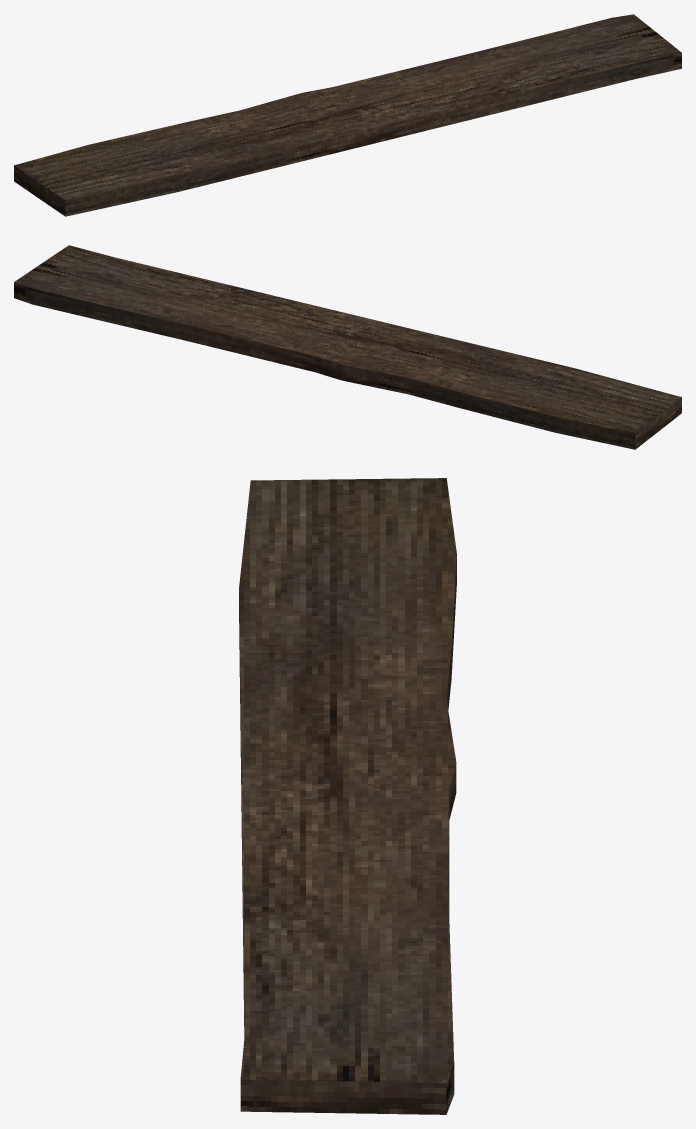
File: wooden_plank_2.glb
The picture shows the model from 3 angles, top to bottom: view 1: azimuth 30°, elevation 25°; view 2: azimuth 150°, elevation 25°; view 3: azimuth 270°, elevation 25°; orthographic projection. The views are drawn at different scales.
Visible parts, largest first — view 1: wooden_plank_2; view 2: wooden_plank_2; view 3: wooden_plank_2.
Boxes of the visible parts, x1,y1,x2,y2 form: wooden_plank_2: (14,14,681,216); wooden_plank_2: (14,245,681,449); wooden_plank_2: (239,478,456,1114).
Bounding box in the file's own units: 1.22 × 0.03 × 0.1853.
1 material, 1 textured.
